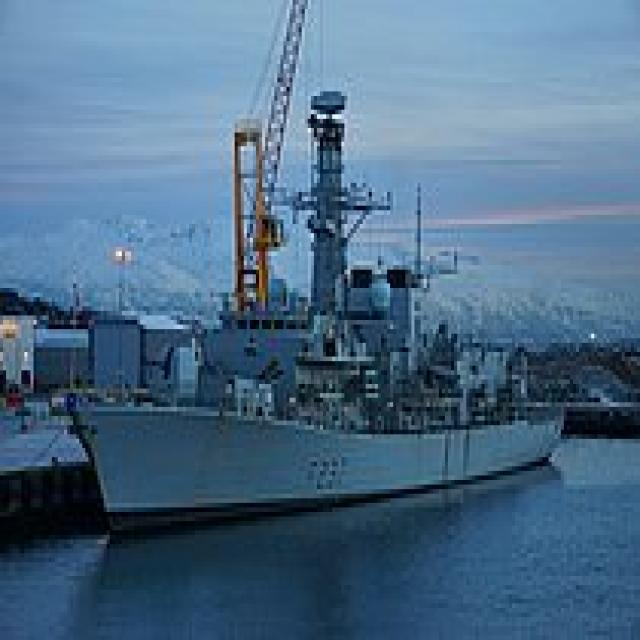Warship: (46, 82, 564, 540)
